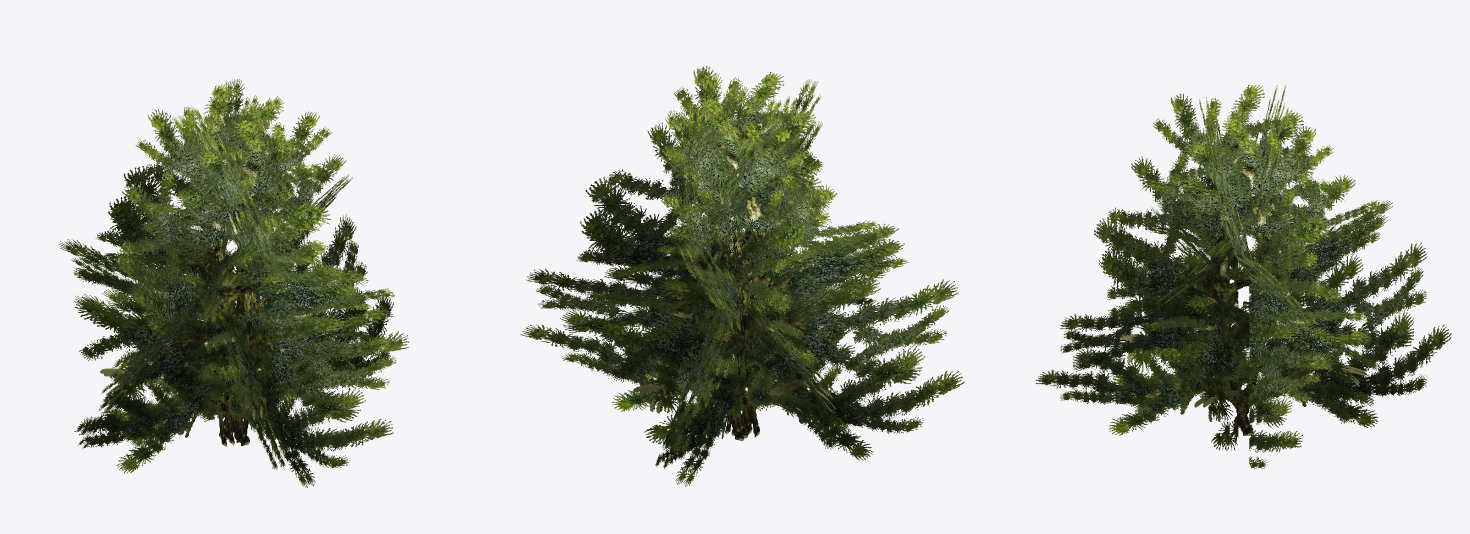
Rendered from fir-young-2.glb.
The picture shows the model from 3 angles, left to right: view 1: azimuth 30°, elevation 25°; view 2: azimuth 150°, elevation 25°; view 3: azimuth 270°, elevation 25°; orthographic projection. The views are drawn at different scales.
Parts seen in each view (by area): view 1: fir-young-2; view 2: fir-young-2; view 3: fir-young-2.
Boxes of the visible parts, box(x1,y1,x2,y2) form: fir-young-2: box(59, 79, 409, 487); fir-young-2: box(520, 65, 964, 486); fir-young-2: box(1035, 84, 1451, 468).
Size of the model in its own units: 4.01 by 3.4 by 4.01.
1 material, 1 textured.
